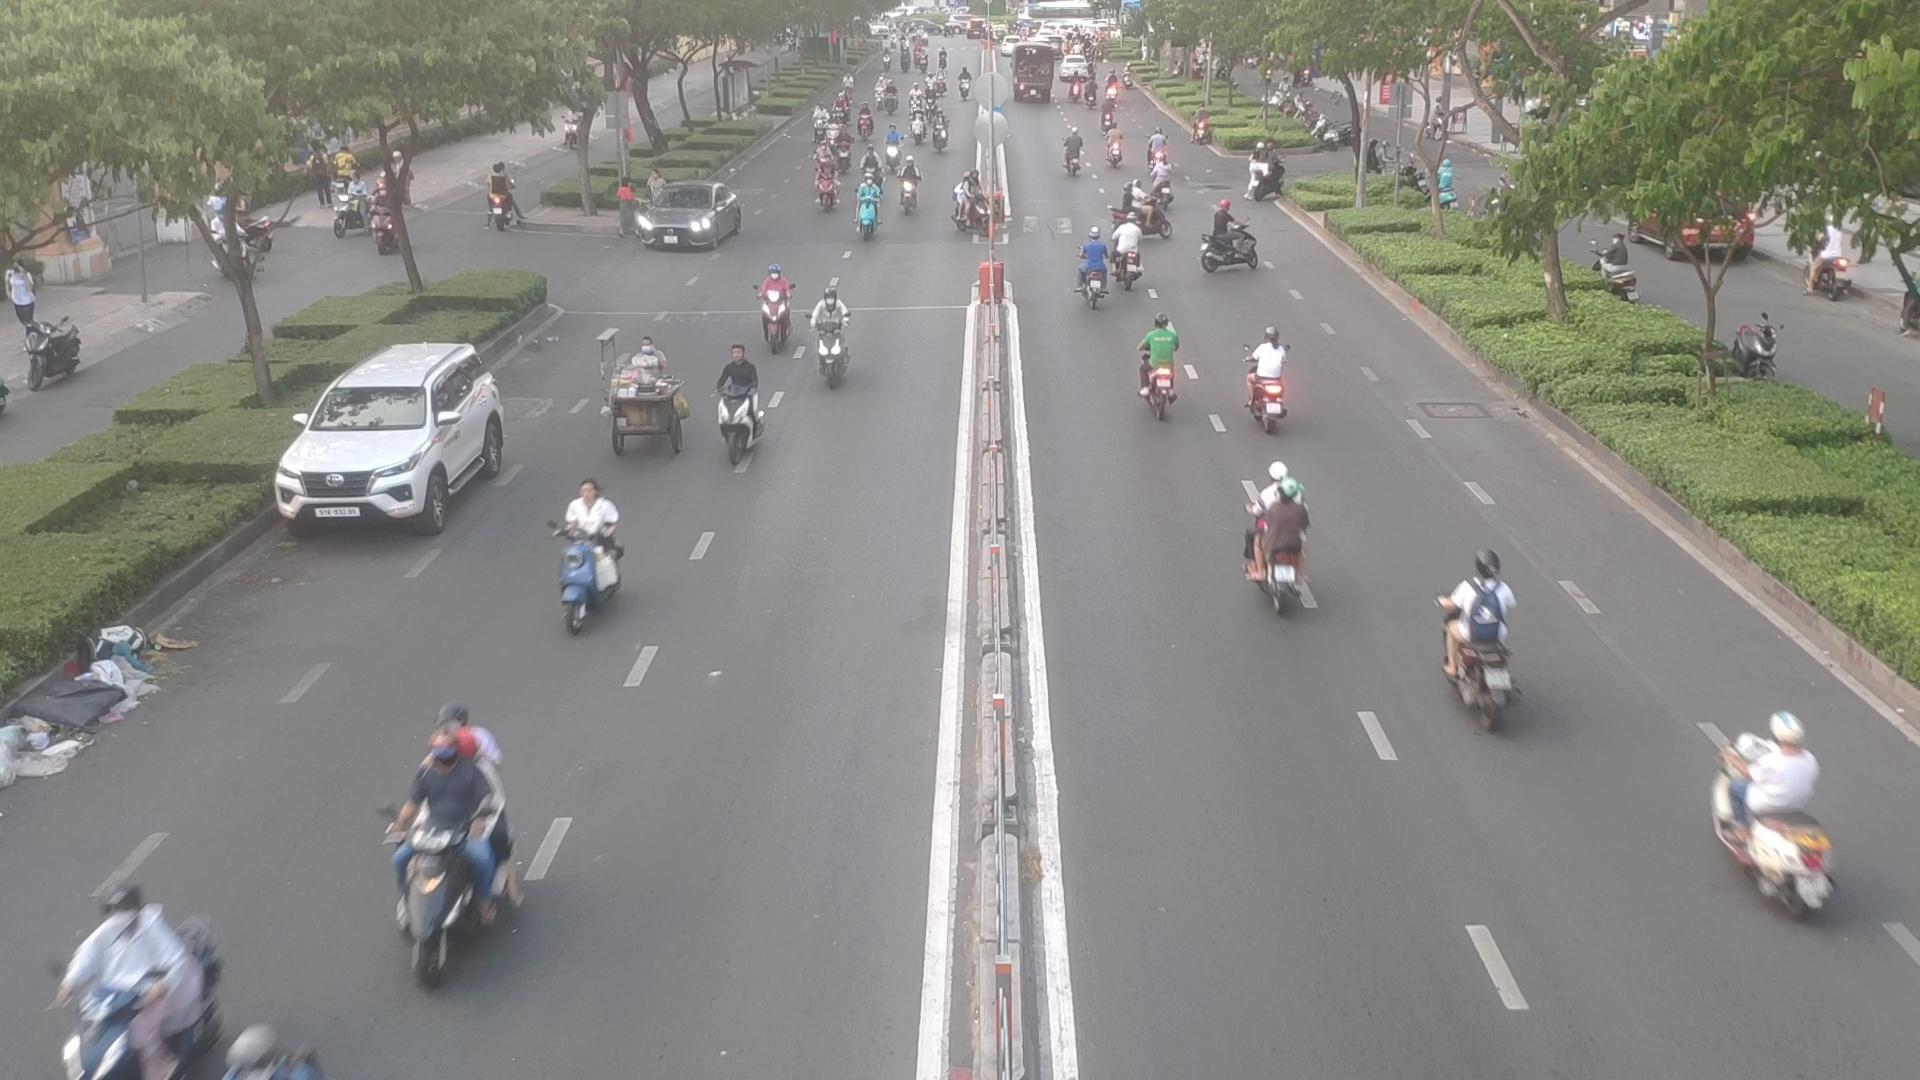car: (278, 339, 520, 527), (617, 189, 752, 255)
motorbike: (381, 708, 527, 971), (47, 872, 212, 1076), (1701, 712, 1840, 914), (1436, 563, 1527, 723), (1236, 458, 1323, 603), (554, 488, 633, 620), (705, 347, 774, 459), (1133, 315, 1197, 418), (804, 285, 866, 386), (1244, 324, 1296, 427), (959, 173, 1019, 245), (1201, 212, 1265, 274), (746, 266, 796, 342), (1106, 208, 1145, 295), (1120, 179, 1175, 237), (1076, 222, 1109, 314), (851, 166, 884, 240), (1059, 137, 1089, 179)
